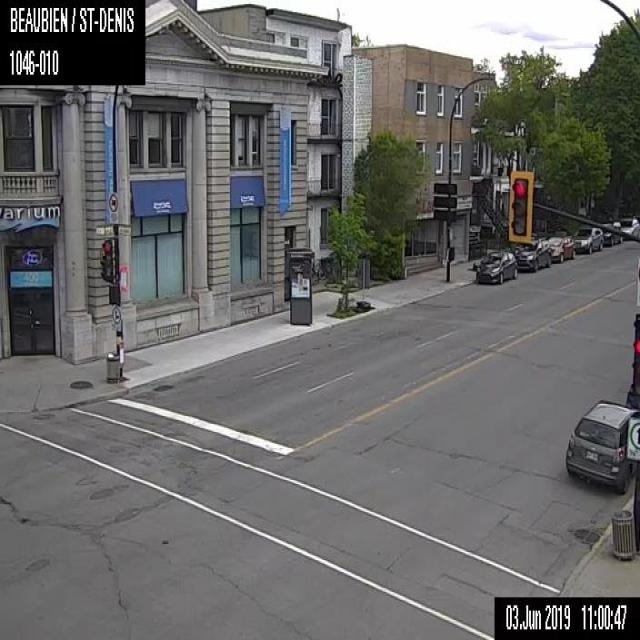vehicle: (565, 398, 639, 494), (476, 250, 516, 284), (514, 237, 550, 272), (574, 227, 603, 253), (548, 235, 575, 262), (602, 220, 622, 244), (621, 217, 639, 239)
